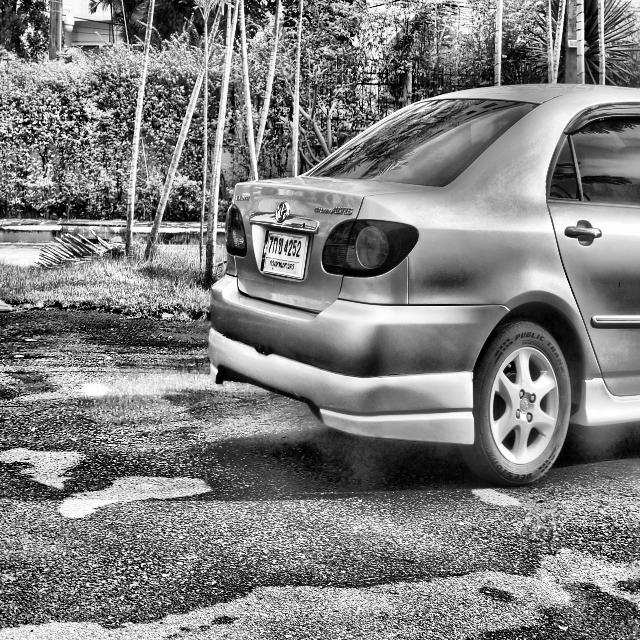license-plate: (261, 220, 308, 281)
